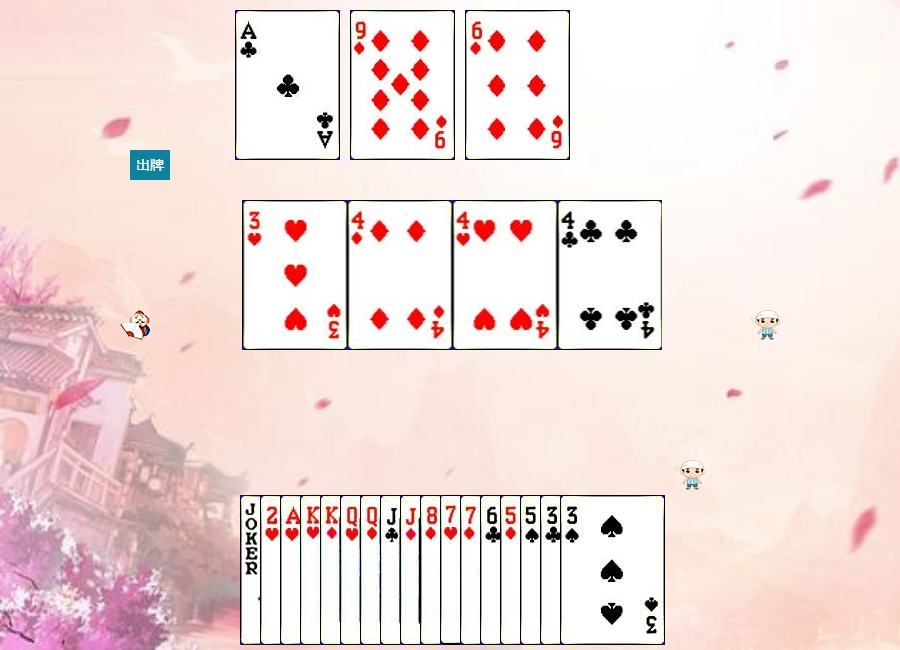11~1: (400, 495, 505, 645)
11~2: (380, 495, 485, 645)
12~1: (360, 495, 465, 645)
12~3: (340, 495, 445, 645)
13~1: (320, 495, 425, 645)
13~3: (300, 495, 405, 645)
14~2: (235, 10, 340, 160)
14~3: (280, 495, 385, 645)
15~3: (260, 495, 365, 645)
17~3: (240, 495, 345, 645)
3~2: (540, 495, 645, 645)
3~3: (243, 200, 348, 350)
3~4: (560, 495, 665, 645)
4~1: (348, 200, 453, 350)
4~2: (558, 200, 663, 350)
4~3: (453, 200, 558, 350)
5~1: (500, 495, 605, 645)
5~4: (520, 495, 625, 645)
6~1: (465, 10, 570, 160)
6~2: (480, 495, 585, 645)
7~1: (460, 495, 565, 645)
7~3: (440, 495, 545, 645)
8~1: (420, 495, 525, 645)
9~1: (350, 10, 455, 160)
